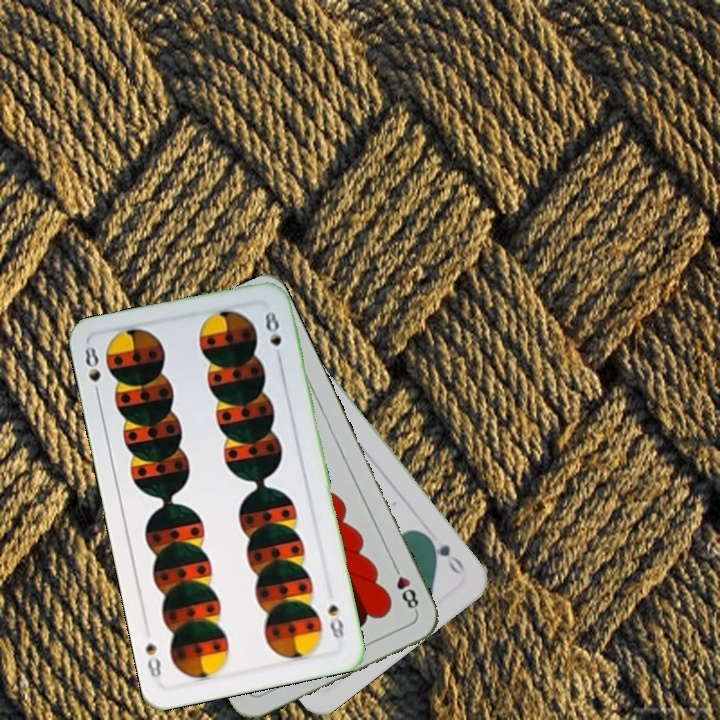GO: (422, 531, 468, 578)
H8: (388, 560, 422, 615)
S8: (81, 343, 104, 401), (324, 600, 348, 643)
